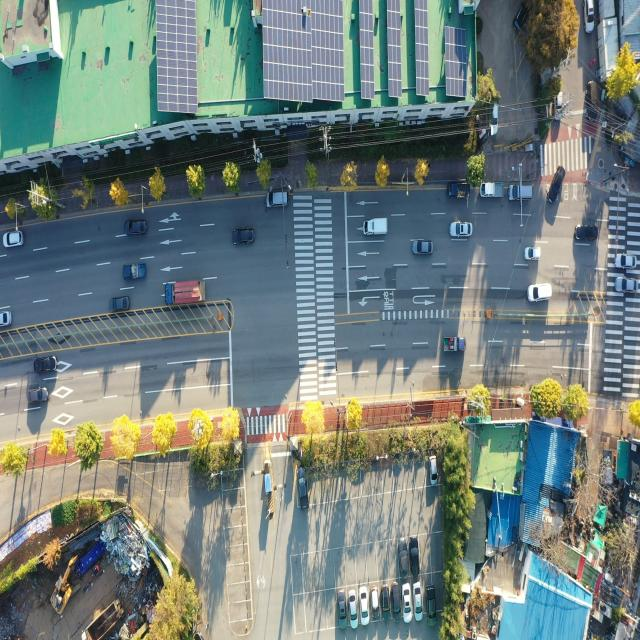car: (548, 164, 566, 204), (295, 470, 308, 510), (528, 282, 553, 302), (514, 4, 531, 32), (586, 78, 596, 124), (510, 183, 534, 201), (574, 225, 598, 243), (450, 220, 473, 238), (411, 536, 421, 576), (427, 585, 437, 624), (414, 584, 424, 622), (268, 192, 290, 209), (617, 277, 639, 294), (34, 356, 56, 373), (398, 540, 407, 580), (234, 230, 255, 247), (617, 252, 638, 269), (28, 387, 49, 404), (359, 586, 368, 625), (349, 590, 358, 628), (402, 584, 411, 622), (413, 240, 434, 256), (339, 594, 348, 630), (3, 232, 22, 249), (110, 298, 130, 314), (127, 219, 148, 234), (391, 584, 400, 619), (586, 0, 595, 33), (382, 586, 391, 616), (554, 91, 563, 121), (429, 456, 438, 485), (524, 247, 541, 261), (492, 101, 499, 133), (0, 310, 12, 328), (371, 585, 378, 611)
medium_truck: (162, 280, 205, 308)
small_truck: (601, 448, 614, 488), (362, 217, 388, 236), (124, 264, 148, 282), (481, 180, 504, 198), (444, 336, 467, 354), (448, 181, 470, 199)
